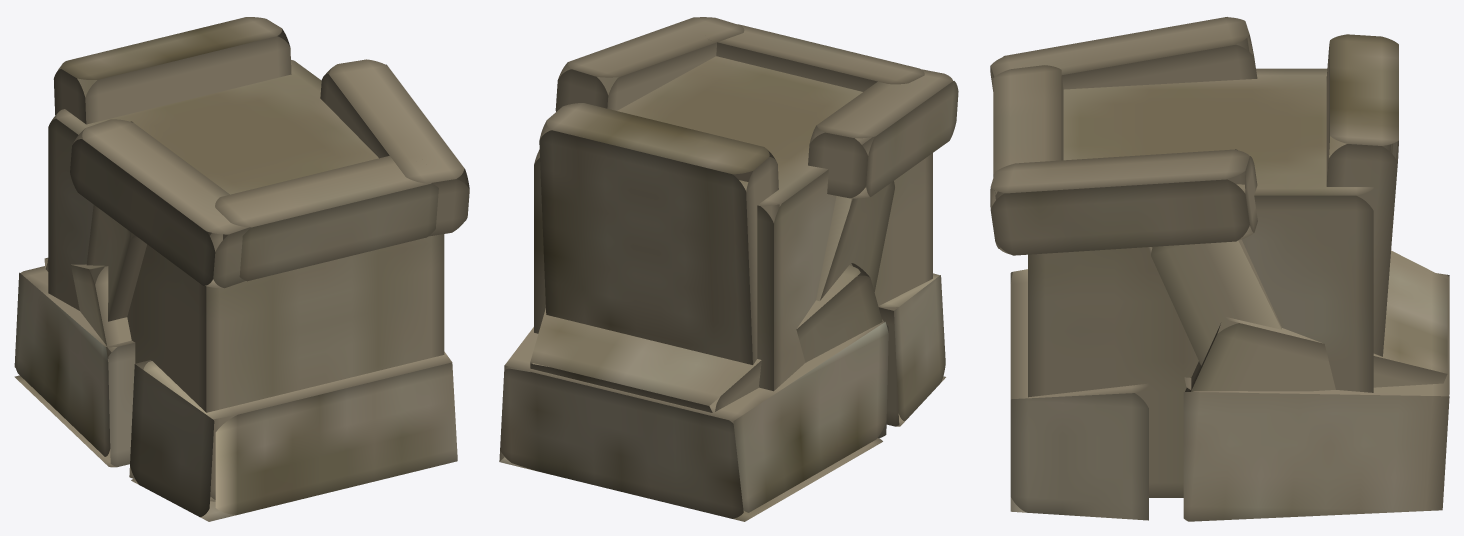
Rendered from ukrainian_mobilized_b_l.obj.
3 views of the same model, side by side, from view 1: azimuth 30°, elevation 25°; view 2: azimuth 150°, elevation 25°; view 3: azimuth 270°, elevation 25° (orthographic). The views are drawn at different scales.
Parts seen in each view (by area): view 1: cube; view 2: cube; view 3: cube.
Boxes of the visible parts, x1,y1,x2,y2 form: cube: (14,17,469,521); cube: (499,17,958,521); cube: (990,17,1449,521).
Size of the model in its own units: 0.3519 by 0.3565 by 0.4171.
